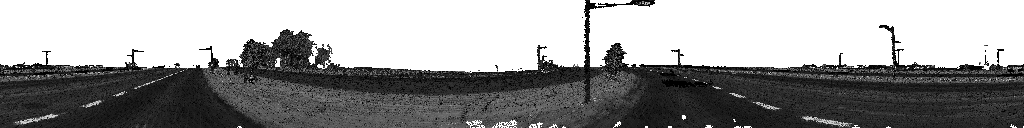light_pole: (583, 0, 655, 105), (879, 26, 900, 81), (199, 47, 214, 72), (127, 50, 143, 69), (537, 46, 547, 69), (671, 50, 683, 67), (996, 49, 1006, 66), (285, 52, 292, 73), (42, 52, 50, 66), (839, 54, 842, 67)
traffic_pole: (227, 60, 240, 76)
